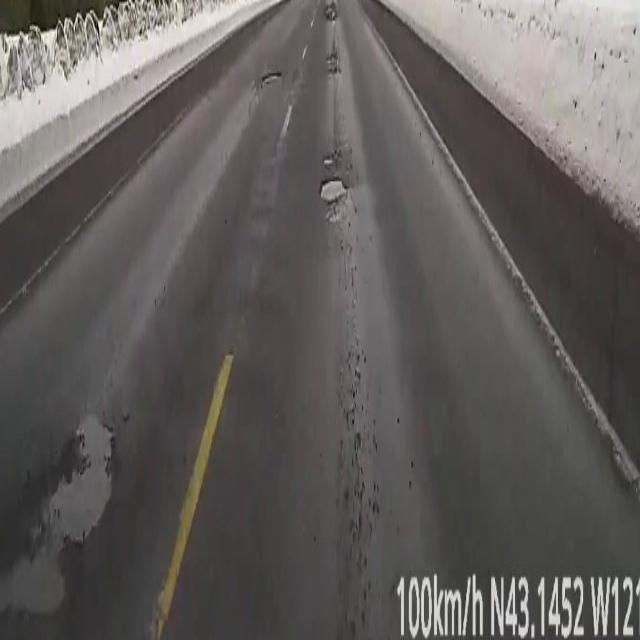pothole: (0, 415, 125, 620), (320, 150, 349, 208), (262, 66, 285, 88)
